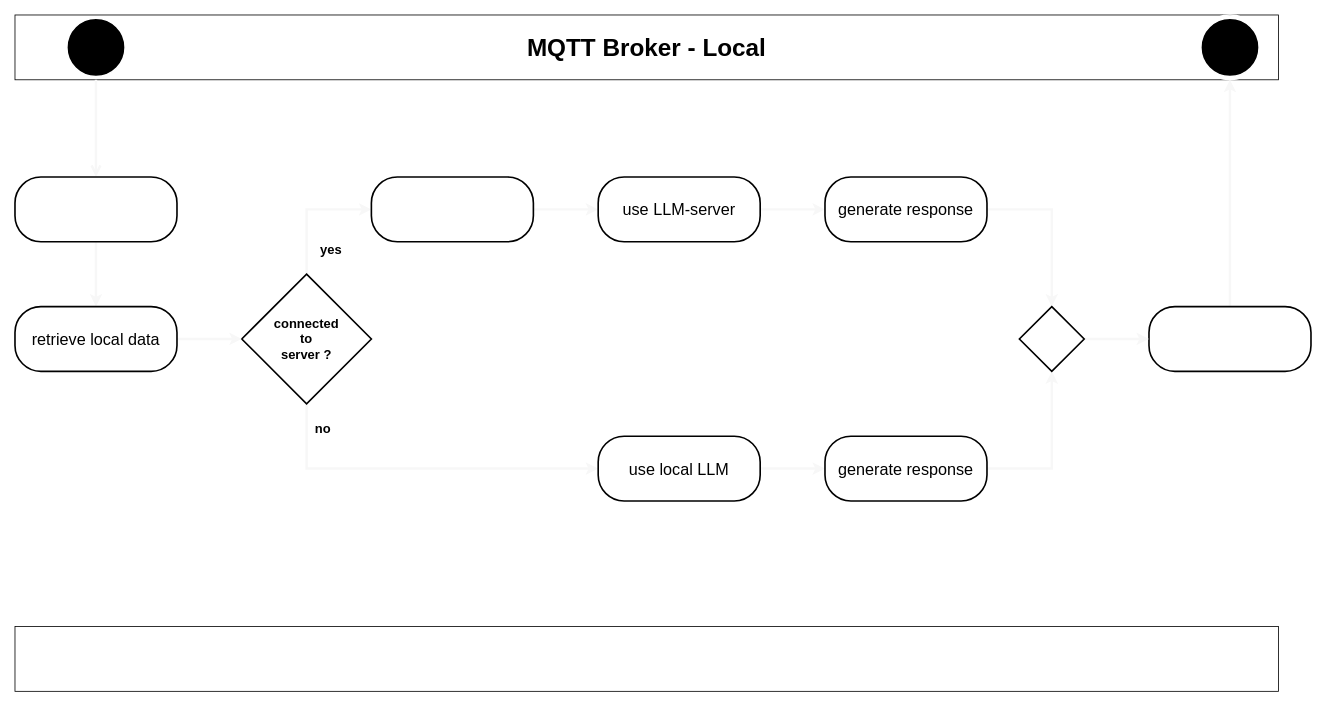
Image size: 1325x706. Some labels were removed from this diagram. The box of each missing label's shape, as (x1, y1, x2, y2) in pixels:
handle error: (14, 176, 177, 242)
MQTT Broker - Server: (14, 626, 1279, 691)
retrieve data from influxDB: (370, 176, 534, 242)
send response to output: (1148, 305, 1311, 372)
